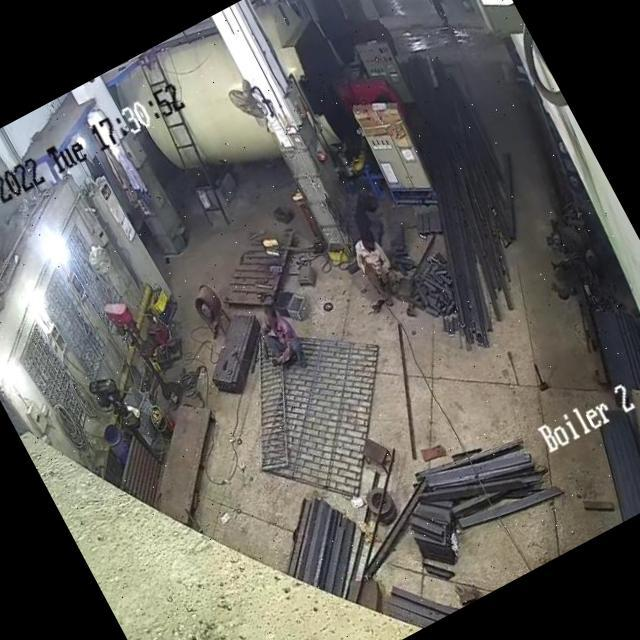person: (346, 224, 406, 303), (414, 0, 462, 38)
